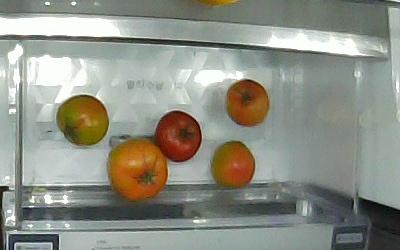tomato: (106, 138, 169, 202), (55, 95, 110, 147), (155, 110, 203, 163), (225, 78, 272, 127), (210, 139, 257, 188)
